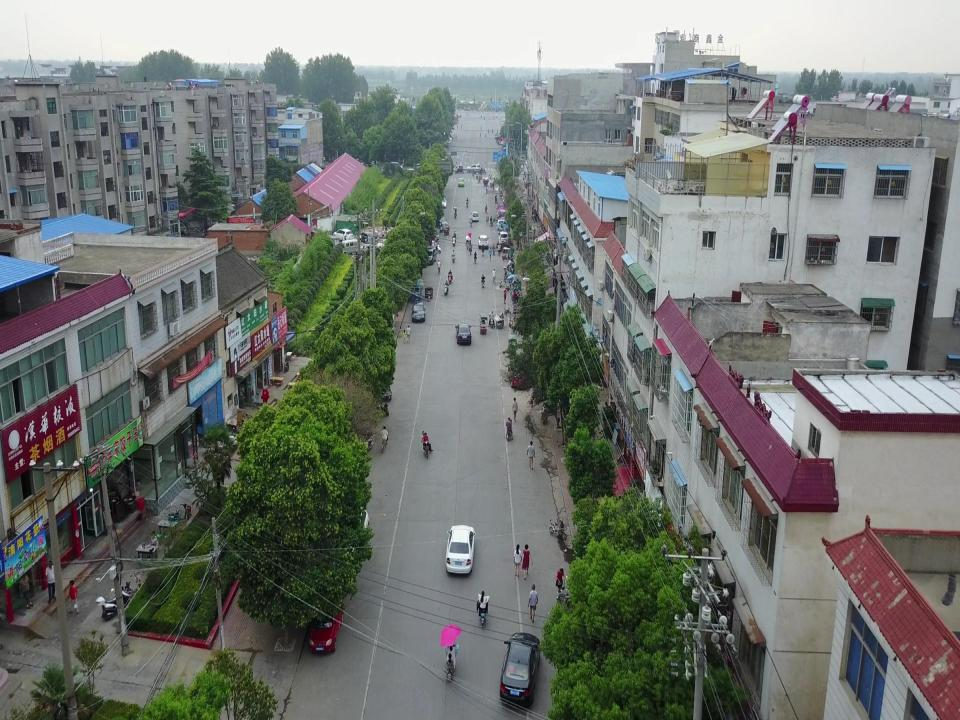car: (316, 506, 370, 573), (499, 632, 541, 705), (308, 597, 344, 654), (445, 524, 477, 574), (508, 363, 530, 389), (354, 244, 380, 261), (455, 324, 472, 346), (411, 300, 426, 322), (376, 239, 401, 251), (422, 247, 436, 266), (333, 228, 353, 241), (356, 231, 376, 243), (433, 216, 448, 229), (477, 235, 489, 249), (497, 231, 509, 244), (467, 164, 481, 173), (438, 197, 447, 208), (471, 211, 479, 222), (458, 178, 464, 187)
van: (336, 239, 359, 255), (166, 222, 188, 234)
